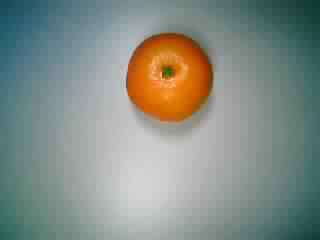orange: (121, 28, 217, 124)
